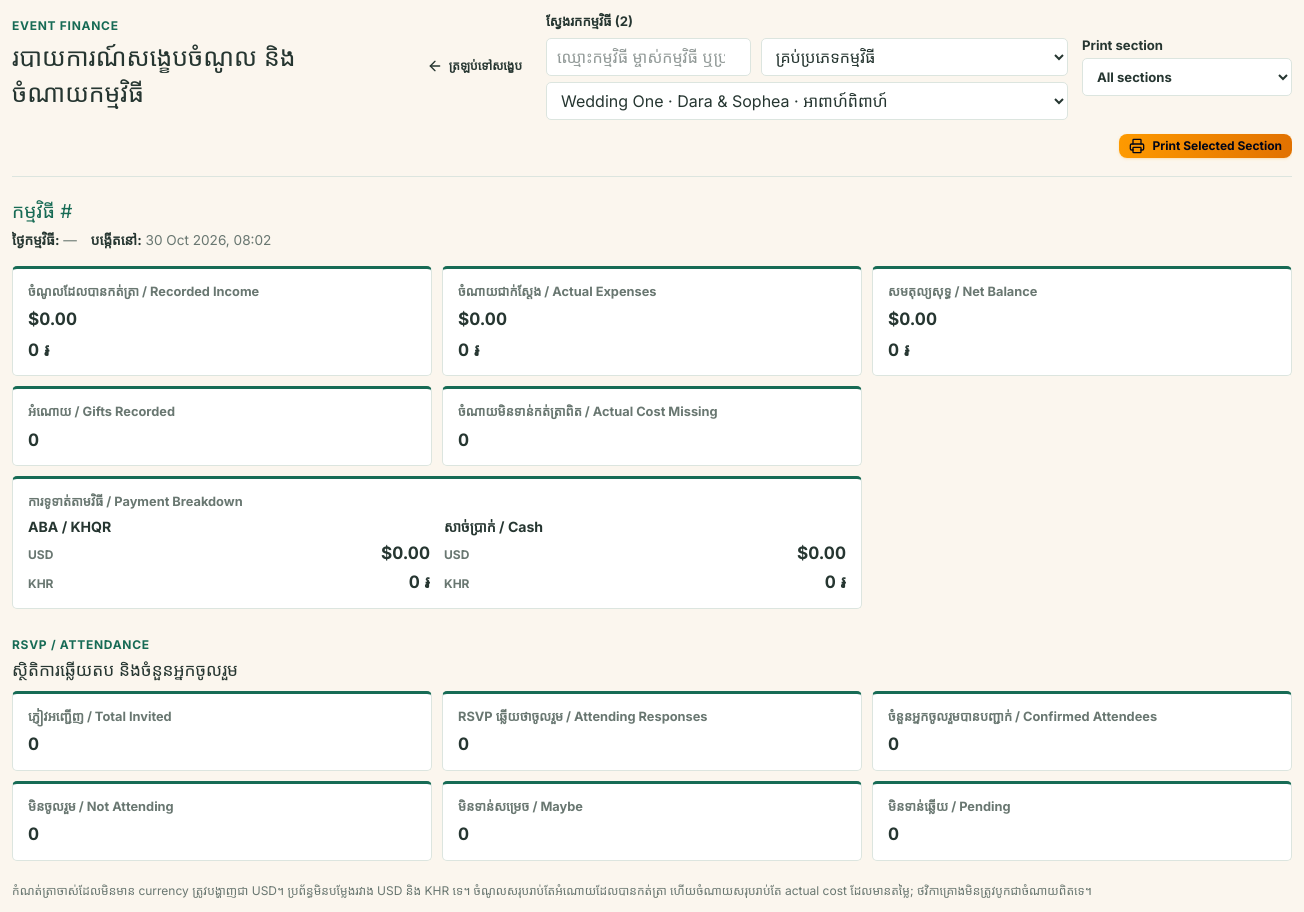
FinancialReport › uses user event titles and filters the list by event type
Select "ខួបកំណើត" in the dropdown named "ត្រងតាមប្រភេទកម្មវិធី": (914, 57) [761,38,1068,76]
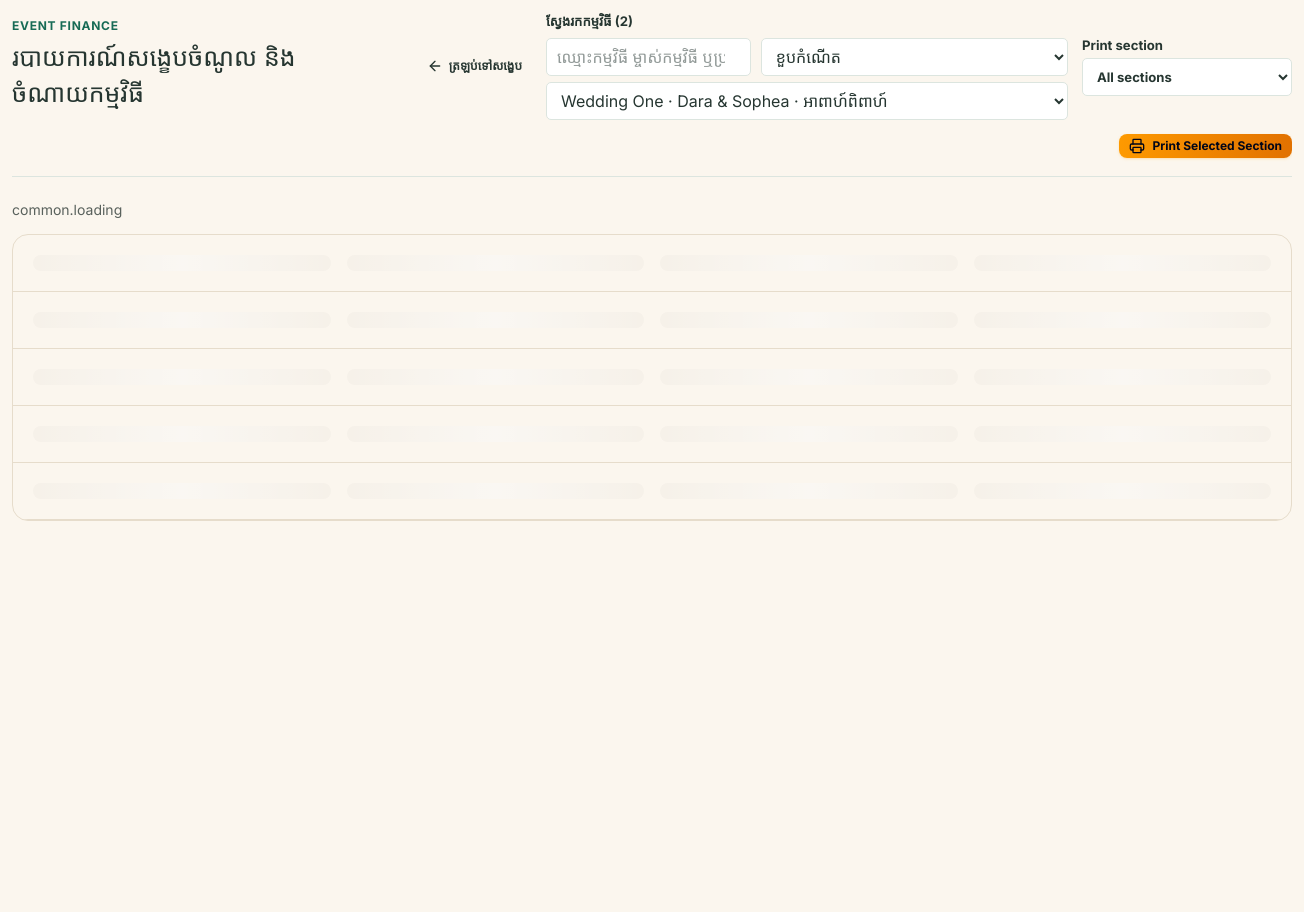
Select "Sokha's Birthday · Sokha · ខួបកំណើត" in the dropdown named "ជ្រើសរើសកម្មវិធី": (807, 101) [546,82,1068,120]
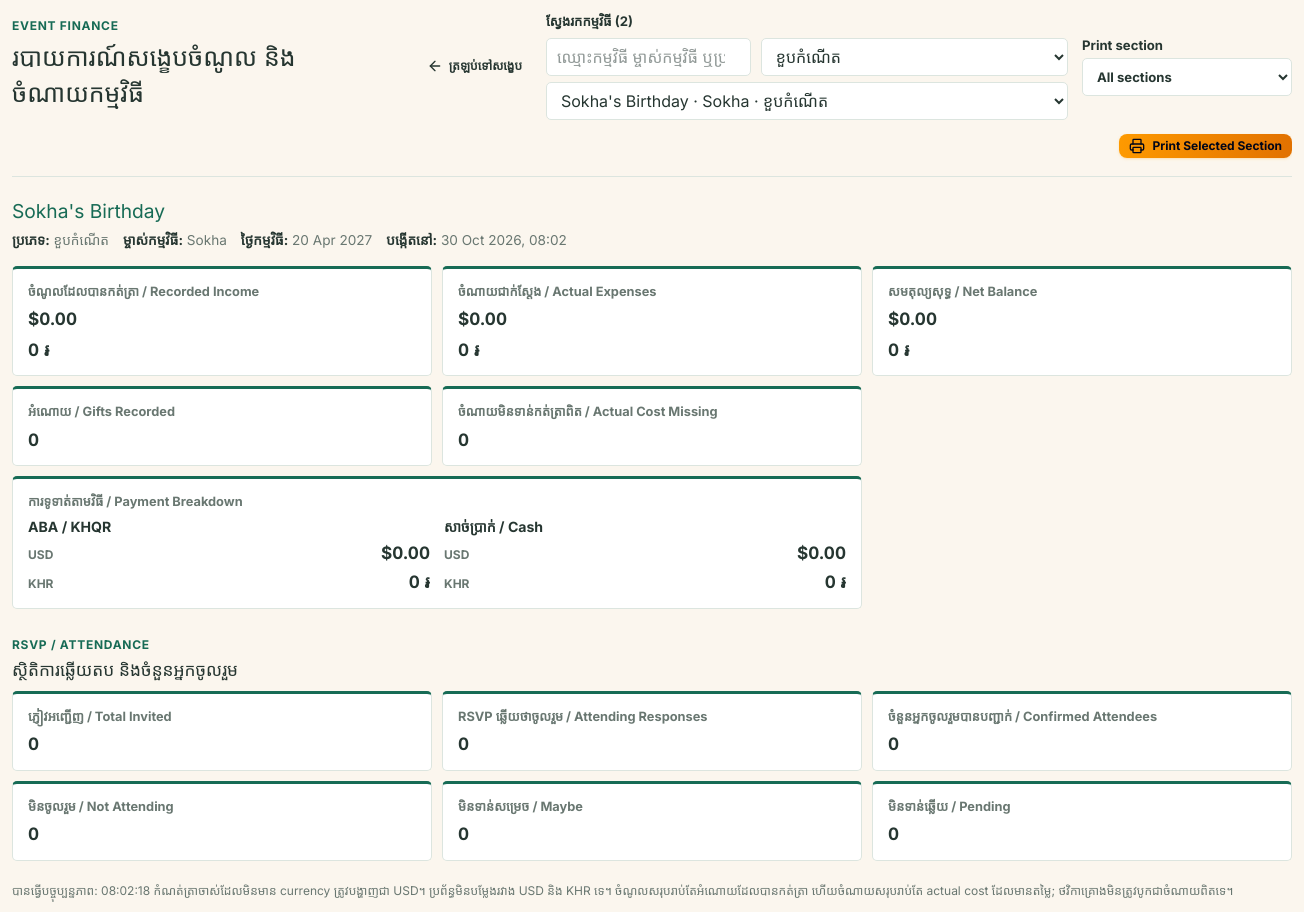
Expected: the heading "Sokha's Birthday" is shown, [12,199,165,223]
